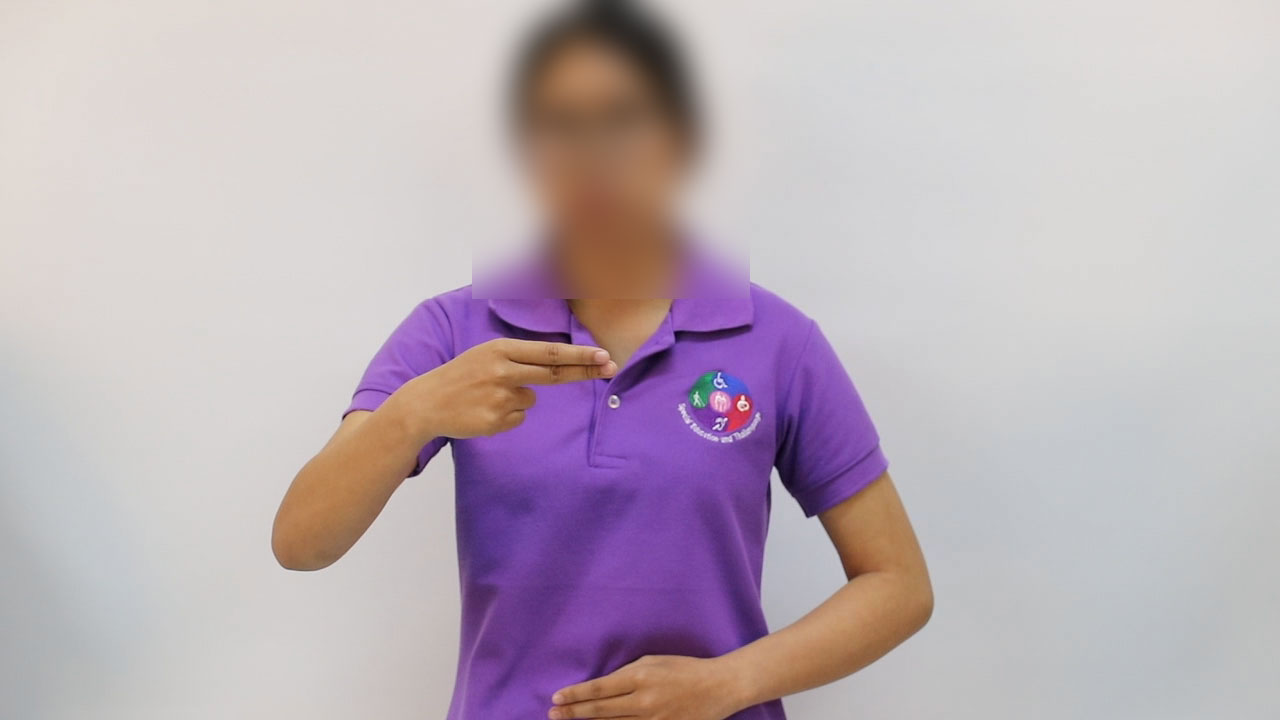hor: (396, 329, 629, 457)
